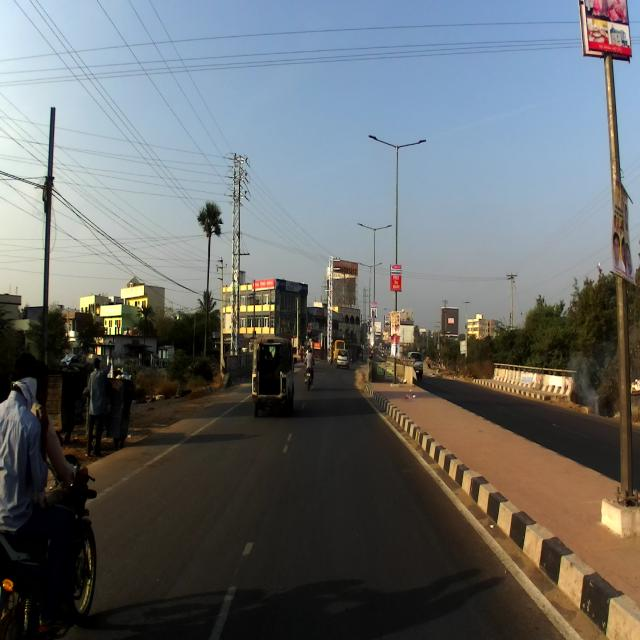car ahead at: (245, 330, 301, 426)
motorcycle ahead at: (0, 451, 100, 640)
